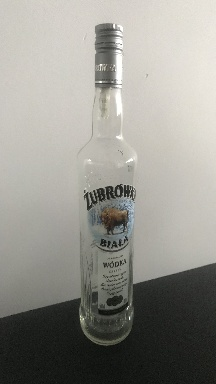butelka: (74, 20, 138, 348)
